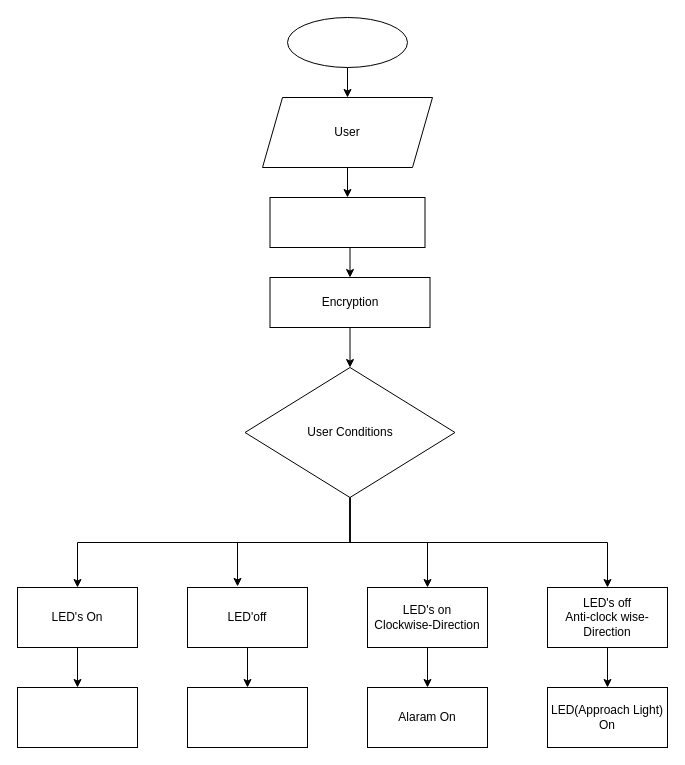
Some shapes in this 685 by 765 pixel diagram are drawn without their labels. The shapes that lost their labels are listed below. From the top down, each one's centre as x and y in pixels, then its label:
At pixel 347 42: "Start".
At pixel 347 222: "Press Button".
At pixel 77 717: "Car Lock".
At pixel 247 717: "Car Unlock".
